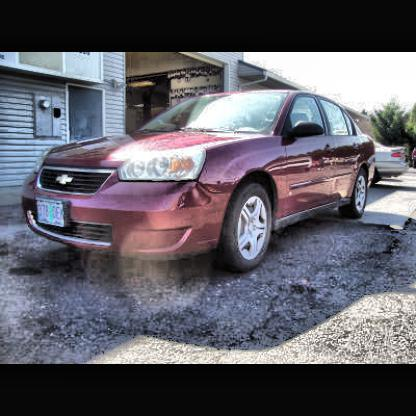Chevrolet Malibu Sedan 2007: (23, 89, 376, 273)
